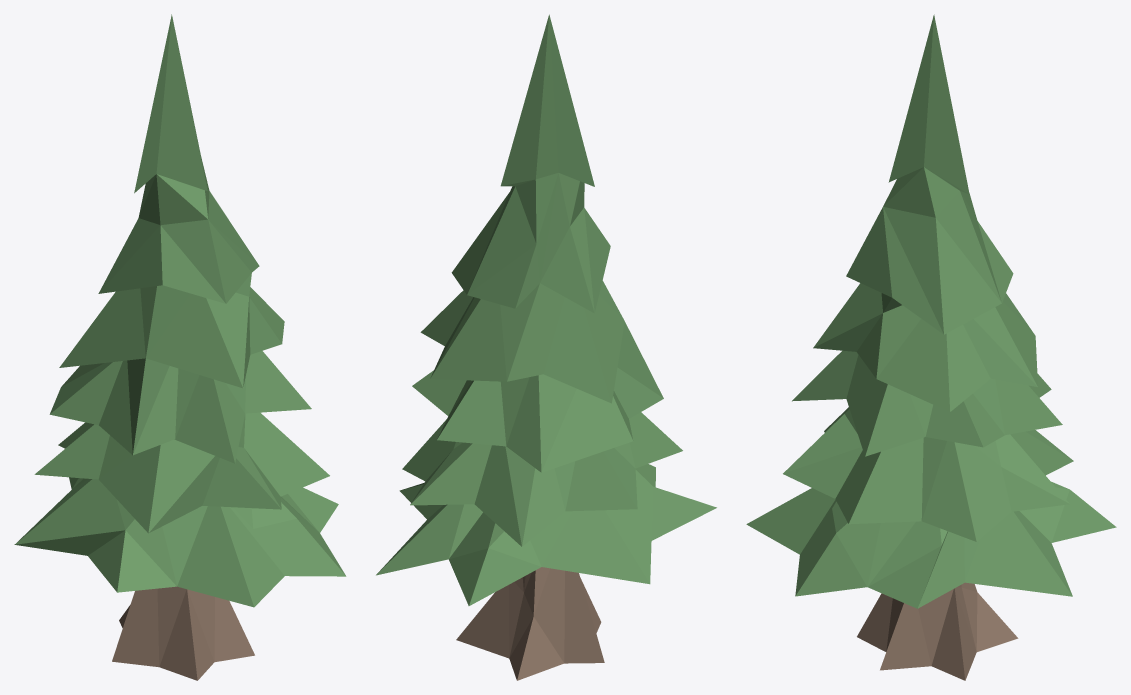
The model's file is Pine_tree_1_MESH.fbx.
3 renders of one model, left to right at view 1: azimuth 30°, elevation 25°; view 2: azimuth 150°, elevation 25°; view 3: azimuth 270°, elevation 25°, orthographic.
Visible parts, largest first — view 1: pine_tree_1_MESH; view 2: pine_tree_1_MESH; view 3: pine_tree_1_MESH.
Boxes of the visible parts, box(x1,y1,x2,y2) form: pine_tree_1_MESH: box(14, 14, 346, 680); pine_tree_1_MESH: box(376, 14, 716, 680); pine_tree_1_MESH: box(746, 14, 1116, 680).
Size of the model in its own units: 534 by 1126 by 601.
